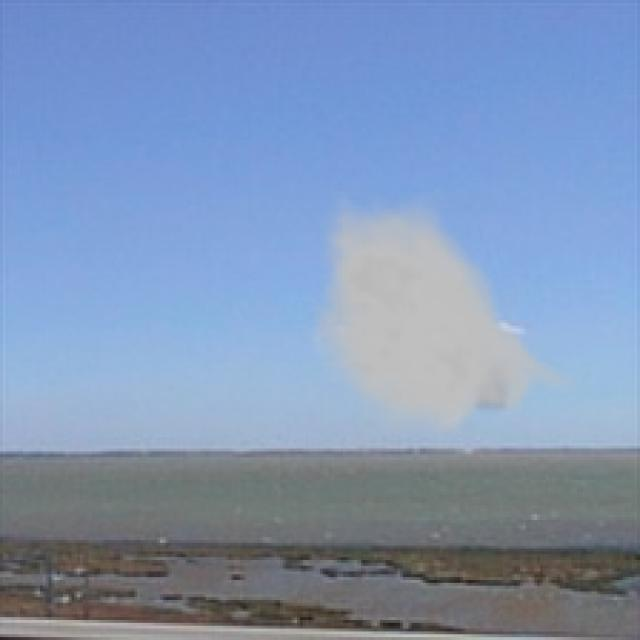smoke: (308, 188, 586, 443)
